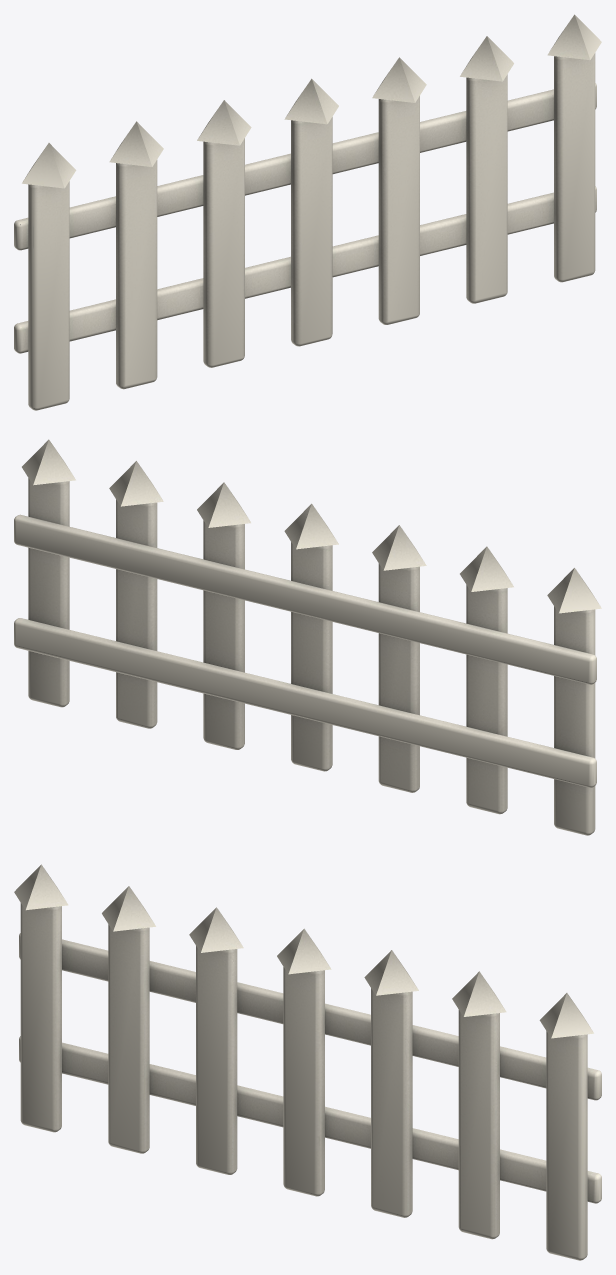
File: picket_fence.glb
3 renders of one model, top to bottom at view 1: azimuth 30°, elevation 25°; view 2: azimuth 150°, elevation 25°; view 3: azimuth 330°, elevation 25°, orthographic.
Visible parts, largest first — view 1: picket_fence; view 2: picket_fence; view 3: picket_fence.
Part boxes in pixels (x1,y1,x2,y2): picket_fence: (14,14,601,410); picket_fence: (14,439,601,835); picket_fence: (14,864,601,1260).
Size of the model in its own units: 1.06 by 0.4599 by 0.1.
1 material, 1 textured.
